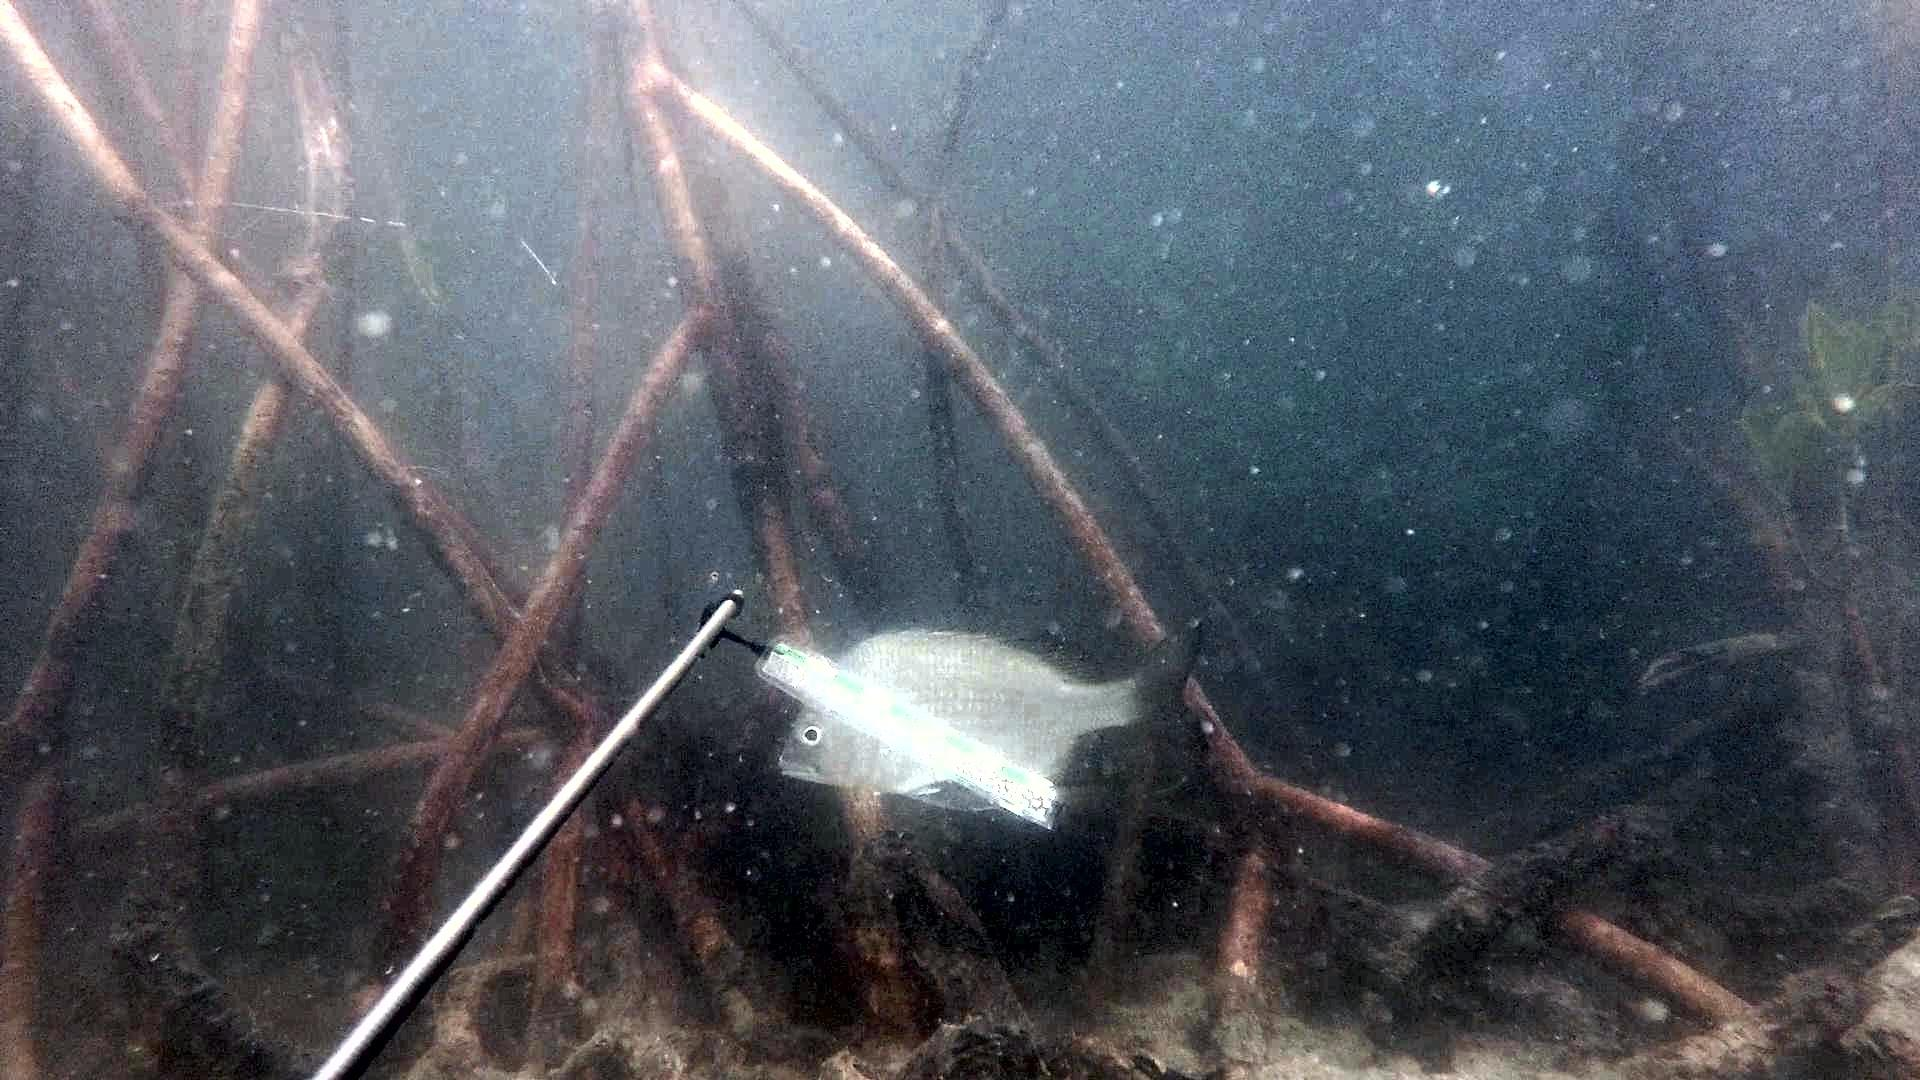acanthopagrus palmaris: (761, 597, 1234, 832)
